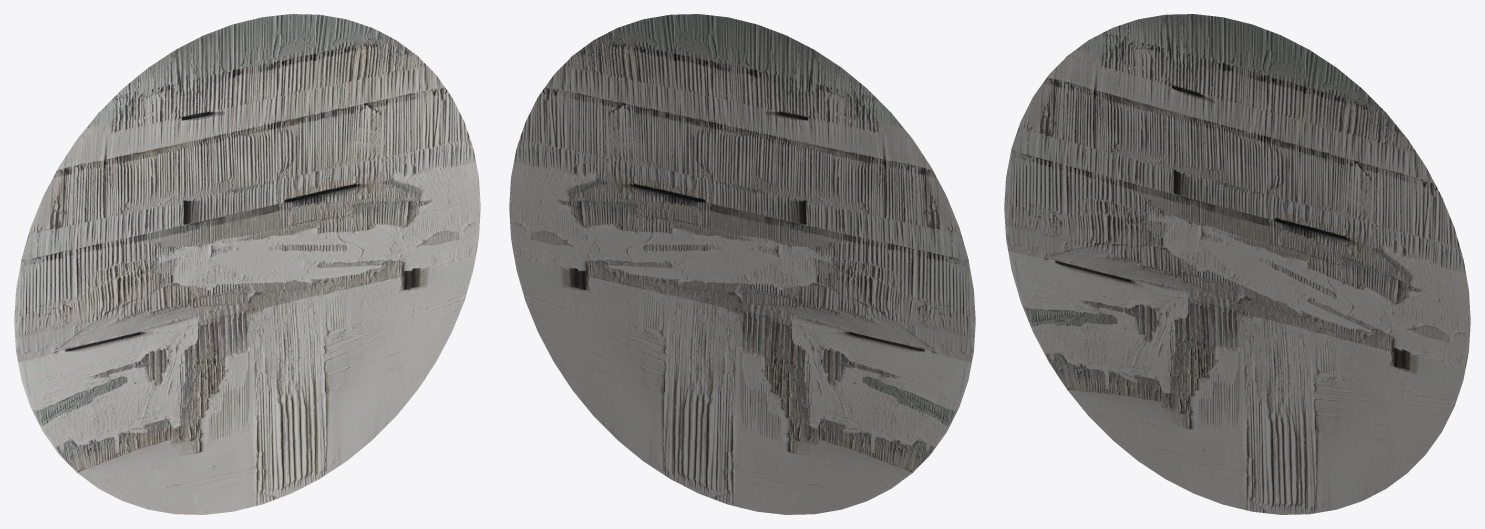
The model's file is dozhdi.gltf.
The picture shows the model from 3 angles, left to right: view 1: azimuth 30°, elevation 25°; view 2: azimuth 150°, elevation 25°; view 3: azimuth 330°, elevation 25°; orthographic projection.
Visible parts, largest first — view 1: Cylinder001; view 2: Cylinder001; view 3: Cylinder001.
Boxes of the visible parts, left/top/right/bottom form: Cylinder001: left=14, top=14, right=480, bottom=514; Cylinder001: left=509, top=14, right=975, bottom=514; Cylinder001: left=1004, top=14, right=1470, bottom=514.
Size of the model in its own units: 1 by 0.998 by 2.22e-16.
Materials: 1 (1 with a texture image).
